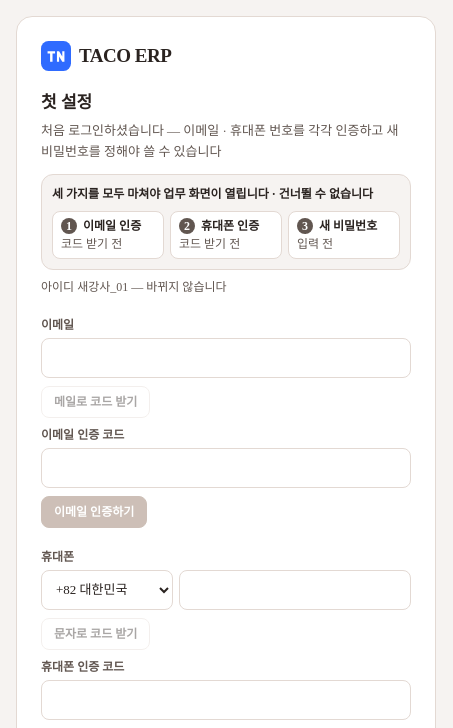
Test: 첫 설정 화면 › 코드 칸에서 Enter 는 그 채널의 인증하기다 — 설정 마치기로 보내지 않는다
The width and height of the screenshot is (453, 728).
Type "kim@tnacademy.kr" into the field labelled "이메일".
click(226, 358); type("kim@tnacademy.kr")  # box [41, 338, 411, 378]
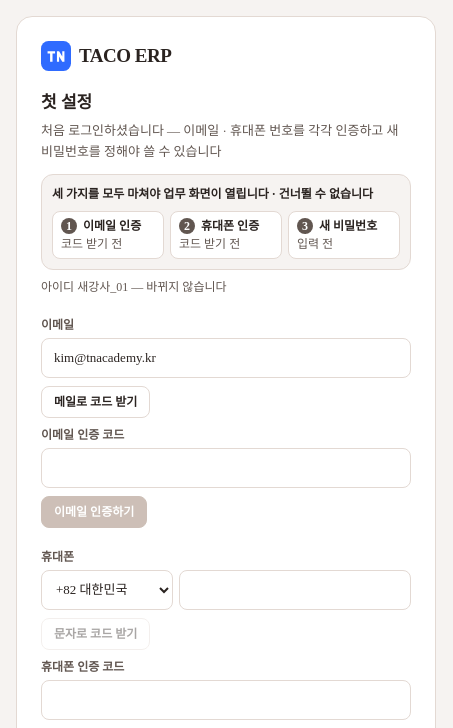
Type "123456" into the field labelled "이메일 인증 코드".
click(226, 468); type("123456")  # box [41, 448, 411, 488]
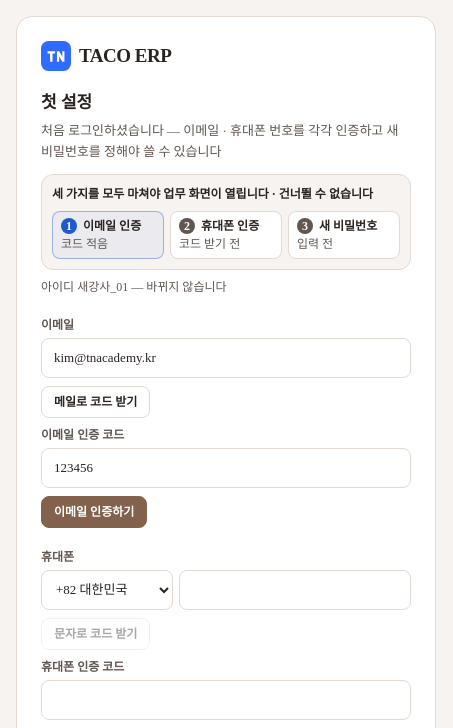
Press Enter in the field labelled "이메일 인증 코드", box [41, 448, 411, 488]
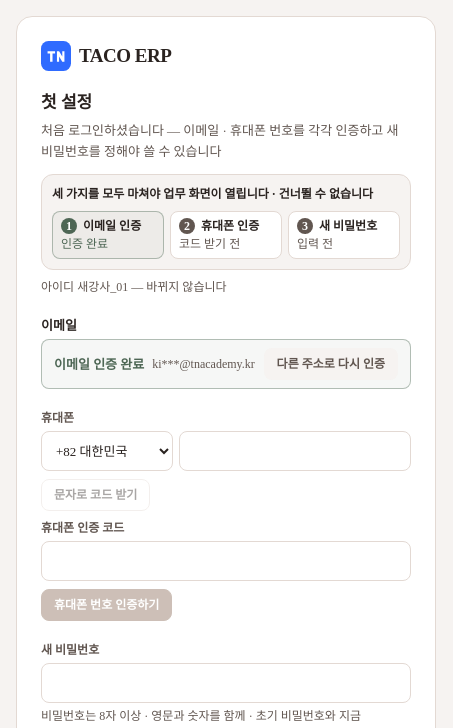
Result: the text "이메일 인증 완료" is shown at [54, 354, 144, 374]
